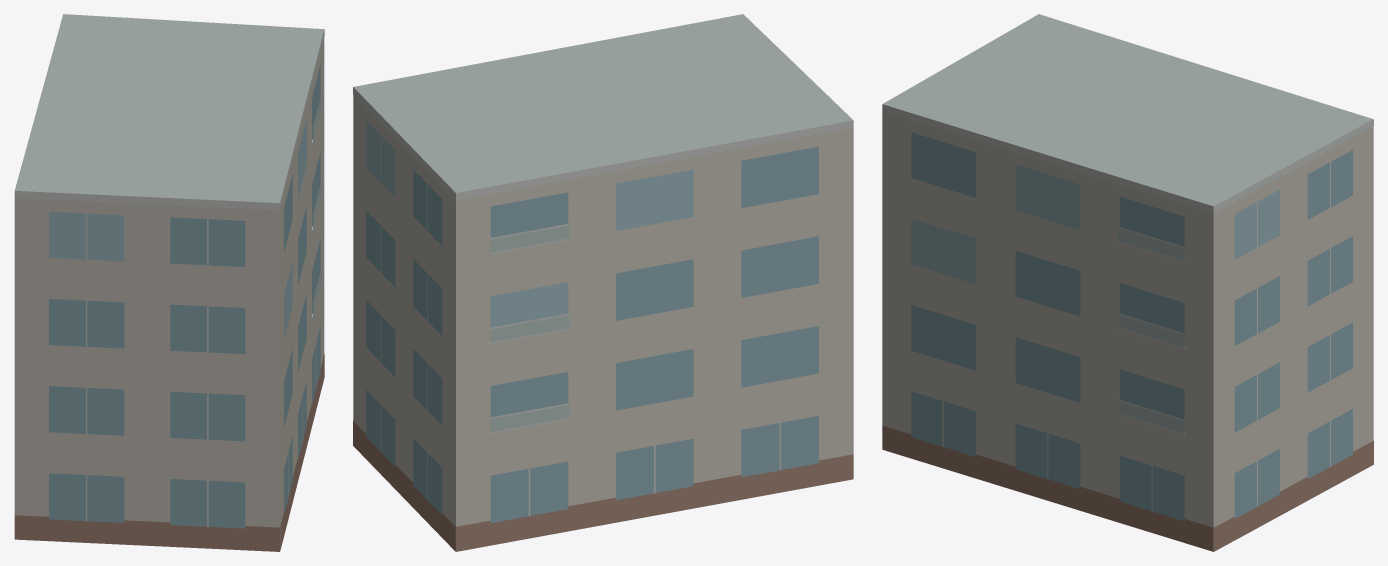
Rendered from survey-upis-33040747.glb.
3 views of the same model, side by side, from view 1: azimuth 30°, elevation 25°; view 2: azimuth 150°, elevation 25°; view 3: azimuth 270°, elevation 25° (orthographic). The views are drawn at different scales.
Parts seen in each view (by area): view 1: survey-upis-33040747.tmp; view 2: survey-upis-33040747.tmp; view 3: survey-upis-33040747.tmp.
Part boxes in pixels (box(x1,y1,x2,y2)): survey-upis-33040747.tmp: box(14, 14, 324, 551); survey-upis-33040747.tmp: box(353, 14, 853, 551); survey-upis-33040747.tmp: box(882, 14, 1373, 551).
Size of the model in its own units: 13.98 by 11.7 by 15.09.
